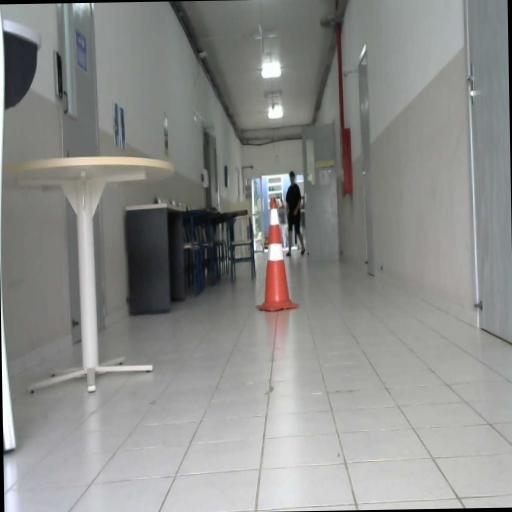cone: (256, 198, 296, 312)
